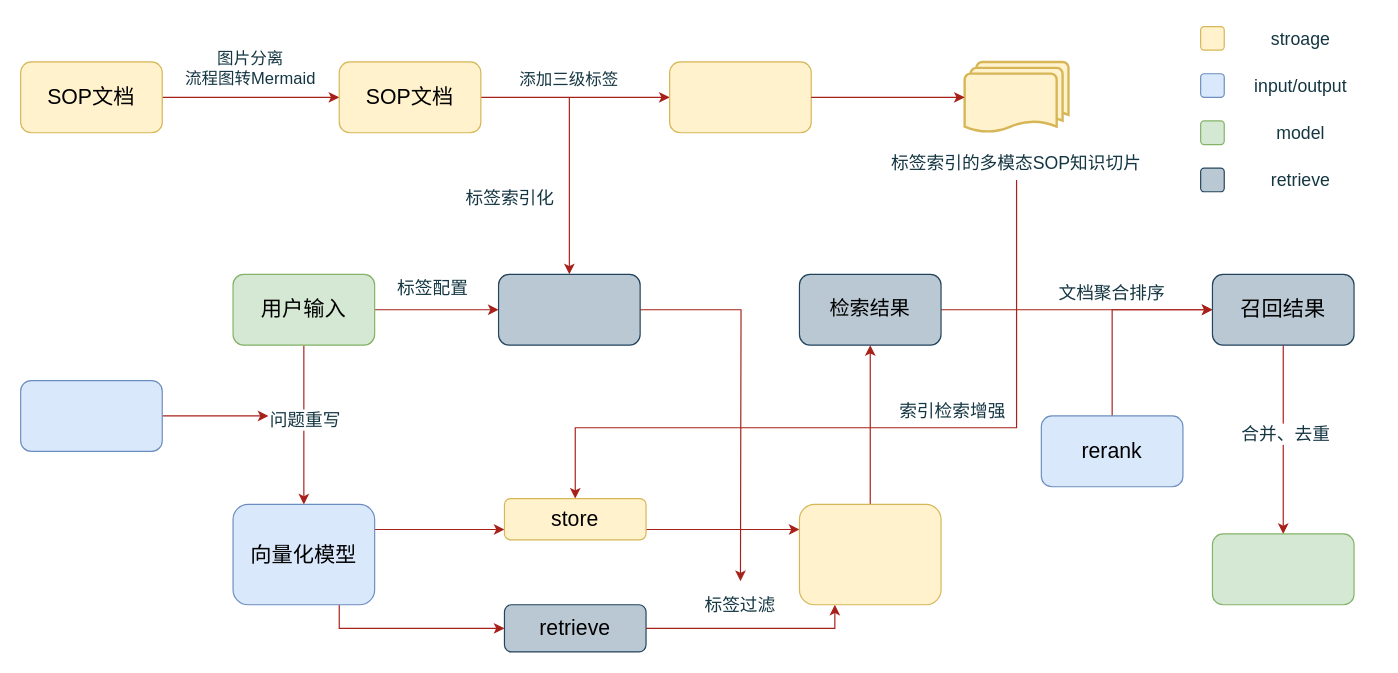
Some shapes in this 1398 by 673 pixel diagram are drawn without their labels. The box of each missing label's shape, as (x1, y1, x2, y2) in pixels:
LLM: (19, 379, 162, 451)
向量数据库: (798, 503, 941, 605)
标签索引: (497, 273, 640, 345)
检索分块: (668, 61, 811, 133)
返回结果: (1211, 533, 1354, 605)
